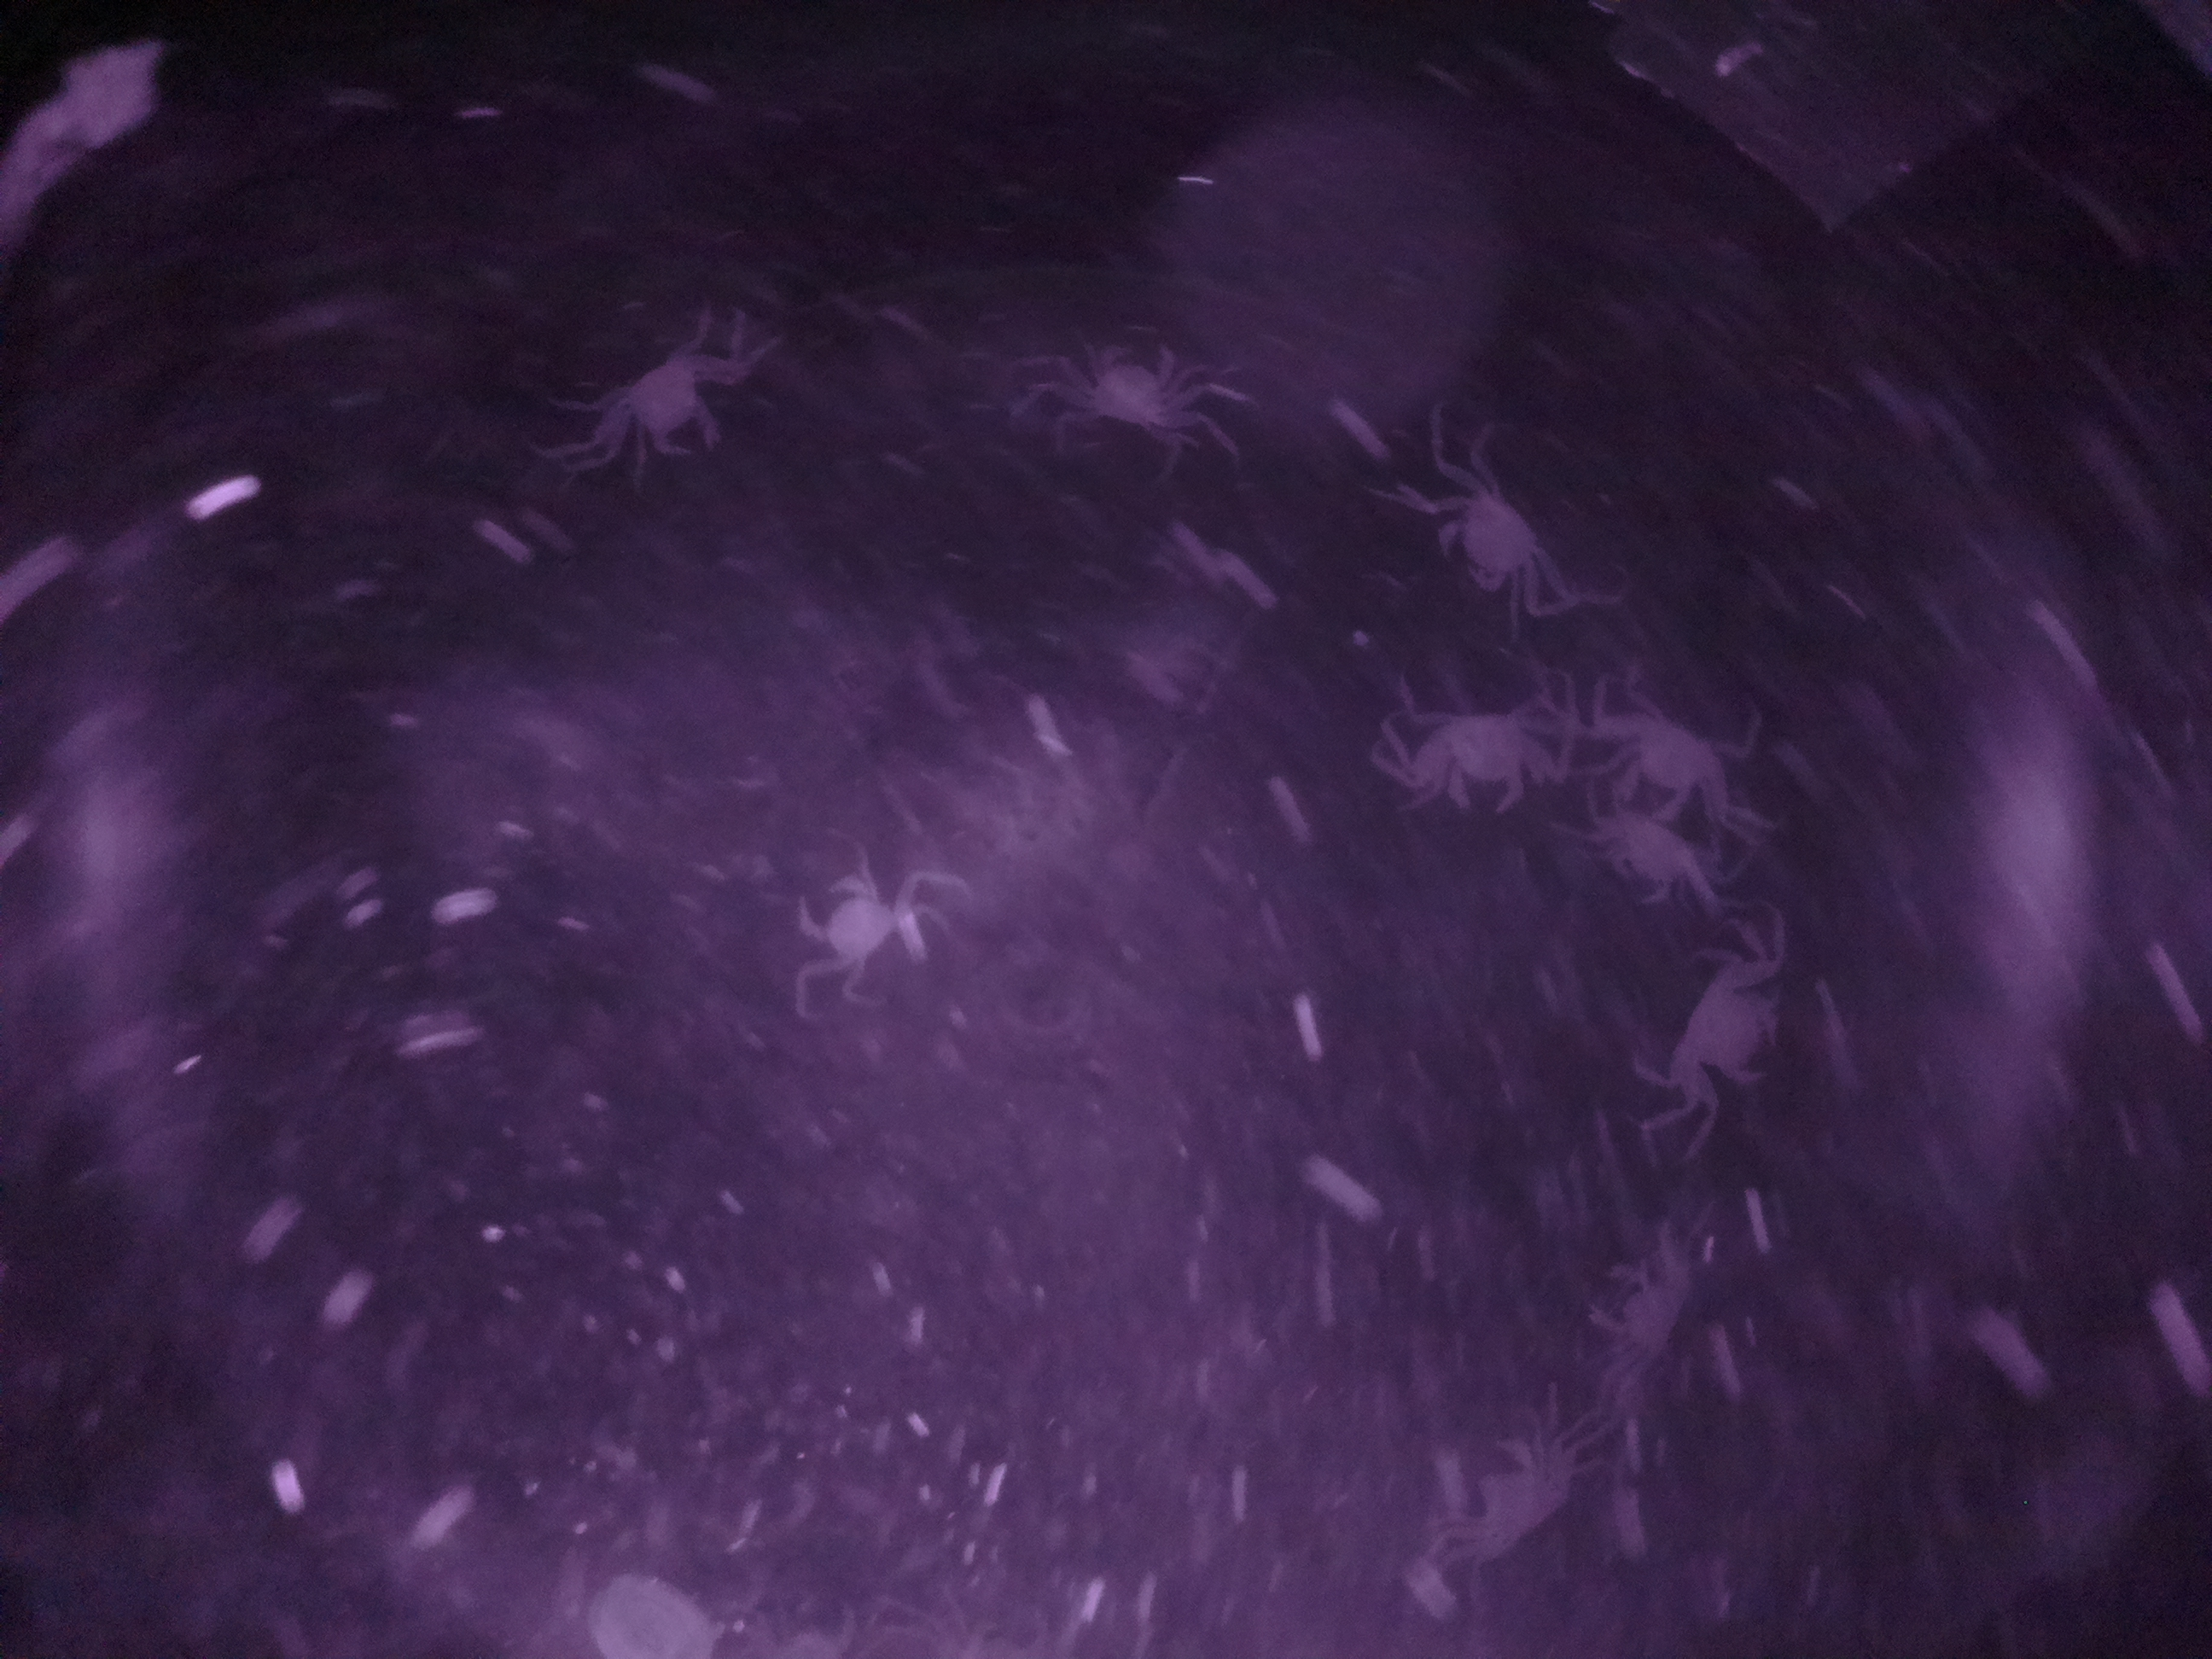Crab: (1420, 467, 1580, 615), (1406, 681, 1557, 828), (587, 331, 740, 472)
